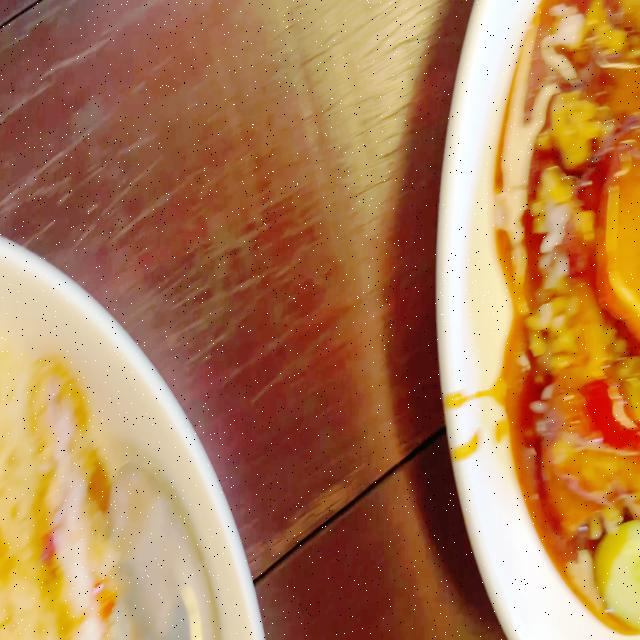chicken_rice: (0, 348, 129, 640)
cucumber: (600, 524, 640, 621)
fried_chicken: (31, 350, 102, 630)
red_pork: (555, 305, 636, 500), (608, 138, 640, 332)
red_pork_and_crispy_pork: (512, 0, 640, 612)
